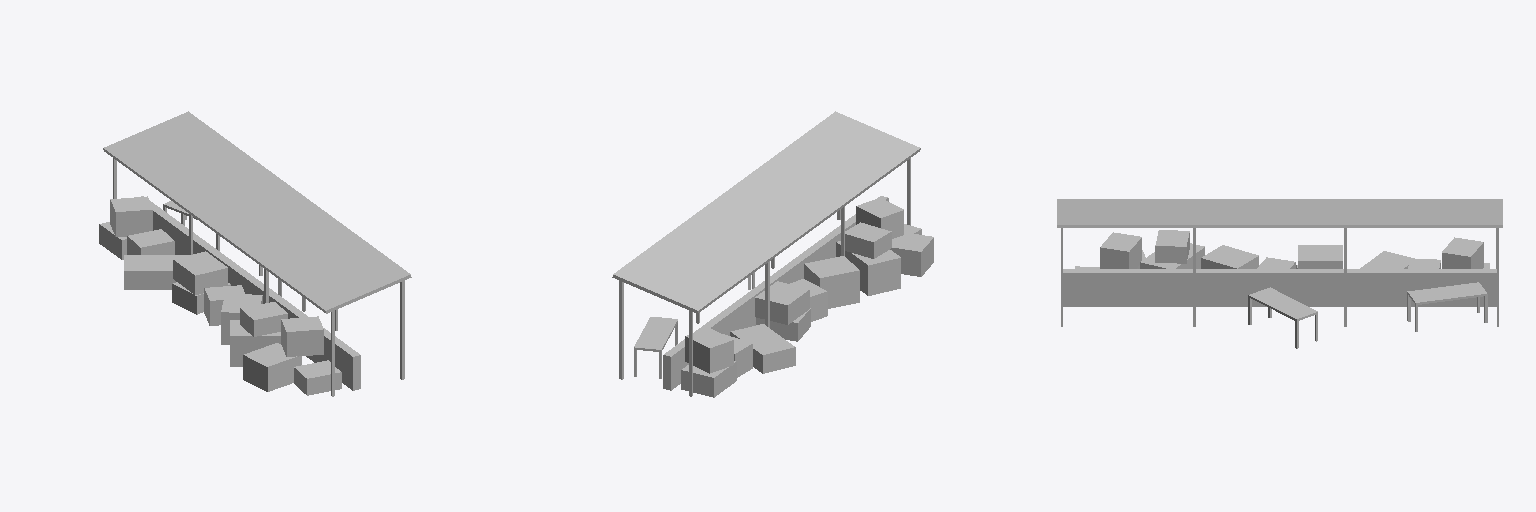
The model's file is Market_Level1.obj.
3 views of the same model, side by side, from view 1: azimuth 30°, elevation 25°; view 2: azimuth 150°, elevation 25°; view 3: azimuth 270°, elevation 25° (orthographic).
Parts seen in each view (by area): view 1: Box176, Box083, Box168, Box169, Box174, Box172, Box175, Box171, Box170, Box164, Box163, Box166 (+3 smaller); view 2: Box176, Box083, Box166, Box169, Box164, Box174, Box175, Box168, Box171, Box172, Box073, Box162 (+3 smaller); view 3: Box083, Box176, Box073, Box153, Box172, Box175, Box171, Box174, Box166, Box164, Box169.
Part boxes in pixels (bbox=[...]): Box176: bbox=[103, 111, 411, 313]; Box083: bbox=[141, 196, 360, 390]; Box168: bbox=[243, 343, 301, 391]; Box169: bbox=[124, 255, 188, 289]; Box174: bbox=[173, 251, 227, 294]; Box172: bbox=[281, 316, 323, 356]; Box175: bbox=[110, 196, 152, 236]; Box171: bbox=[240, 302, 287, 336]; Box170: bbox=[294, 360, 341, 395]; Box164: bbox=[230, 320, 280, 366]; Box163: bbox=[127, 229, 174, 254]; Box166: bbox=[221, 294, 262, 344]; Box176: bbox=[612, 111, 920, 313]; Box083: bbox=[663, 196, 888, 390]; Box166: bbox=[804, 256, 859, 308]; Box169: bbox=[730, 324, 795, 373]; Box164: bbox=[836, 241, 900, 295]; Box174: bbox=[755, 281, 809, 324]; Box175: bbox=[685, 328, 733, 373]; Box168: bbox=[890, 232, 933, 276]; Box171: bbox=[845, 222, 891, 258]; Box172: bbox=[856, 198, 903, 238]; Box073: bbox=[634, 317, 677, 378]; Box162: bbox=[681, 361, 736, 397]; Box083: bbox=[1063, 269, 1496, 306]; Box176: bbox=[1057, 199, 1502, 227]; Box073: bbox=[1407, 282, 1487, 331]; Box153: bbox=[1248, 287, 1317, 348]; Box172: bbox=[1100, 232, 1141, 268]; Box175: bbox=[1442, 237, 1483, 268]; Box171: bbox=[1155, 230, 1189, 263]; Box174: bbox=[1298, 245, 1342, 268]; Box166: bbox=[1201, 245, 1258, 268]; Box164: bbox=[1140, 243, 1204, 268]; Box169: bbox=[1360, 251, 1414, 268].
Size of the model in its own units: 297 by 179 by 689.